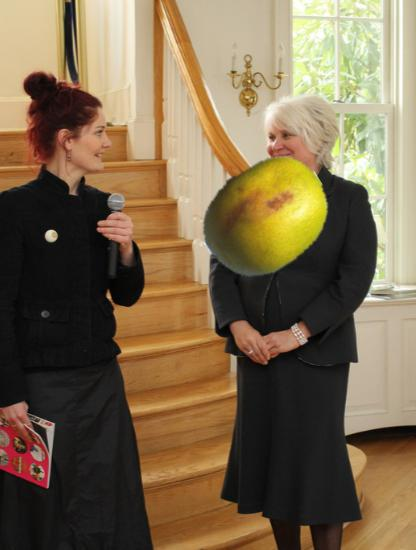Pomelo: (200, 152, 332, 284)
